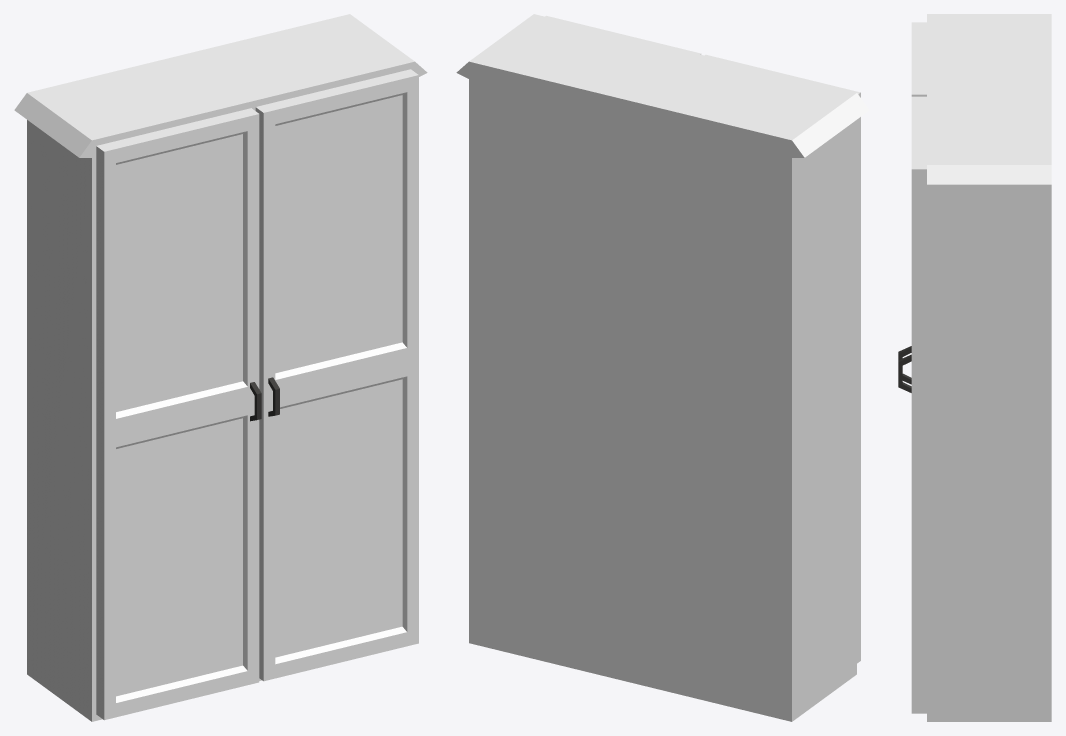
Rendered from WardRobe_1A.fbx.
3 renders of one model, left to right at view 1: azimuth 30°, elevation 25°; view 2: azimuth 150°, elevation 25°; view 3: azimuth 270°, elevation 25°, orthographic. The views are drawn at different scales.
Parts seen in each view (by area): view 1: polySurface2333; view 2: polySurface2333; view 3: polySurface2333.
Part boxes in pixels (x1=…): polySurface2333: x1=14, y1=14, x2=427, y2=721; polySurface2333: x1=456, y1=14, x2=869, y2=721; polySurface2333: x1=898, y1=14, x2=1051, y2=721.
Bounding box in the file's own units: 1.89 × 3.02 × 0.7531.
1 material, 1 textured.
